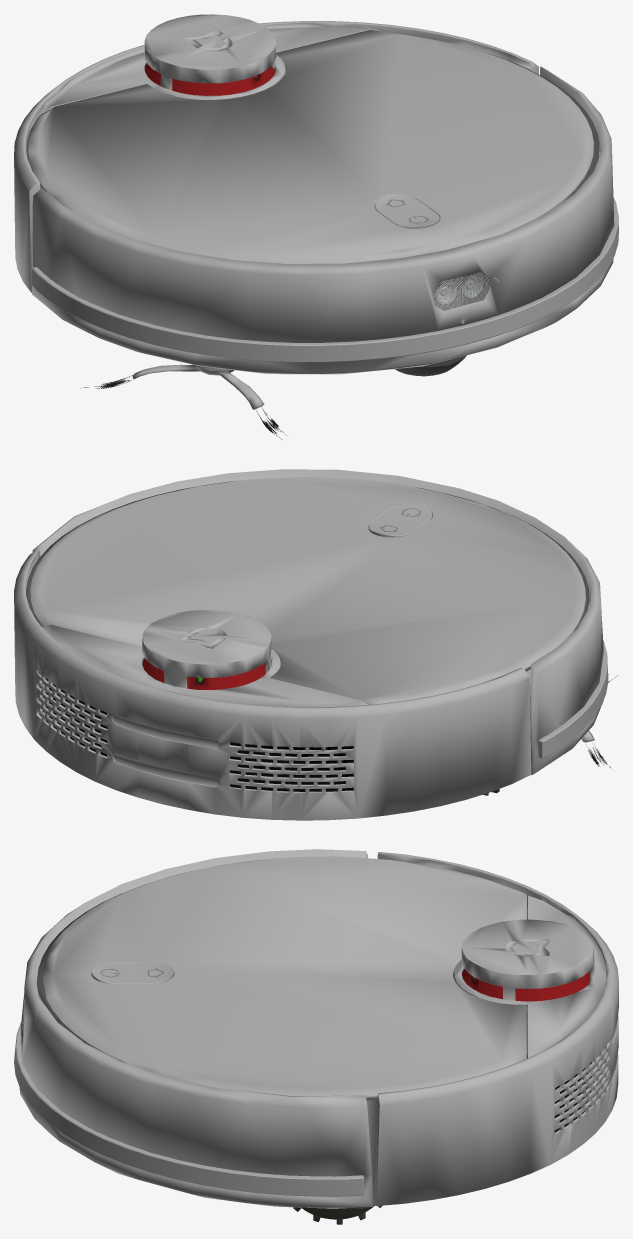
The model's file is robot.glb.
The picture shows the model from 3 angles, top to bottom: view 1: azimuth 30°, elevation 25°; view 2: azimuth 150°, elevation 25°; view 3: azimuth 270°, elevation 25°; orthographic projection. The views are drawn at different scales.
Visible parts, largest first — view 1: Rad.001; view 2: Rad.001; view 3: Rad.001.
Boxes of the visible parts, x1,y1,x2,y2 form: Rad.001: (14,14,618,439); Rad.001: (14,469,618,820); Rad.001: (14,849,618,1224).
Size of the model in its own units: 1.02 by 0.3216 by 0.9856.
18 materials, 4 textured.
